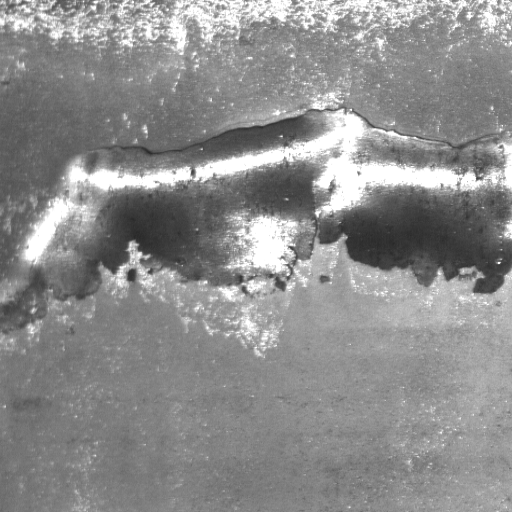qiaopi: (1, 103, 512, 338)
